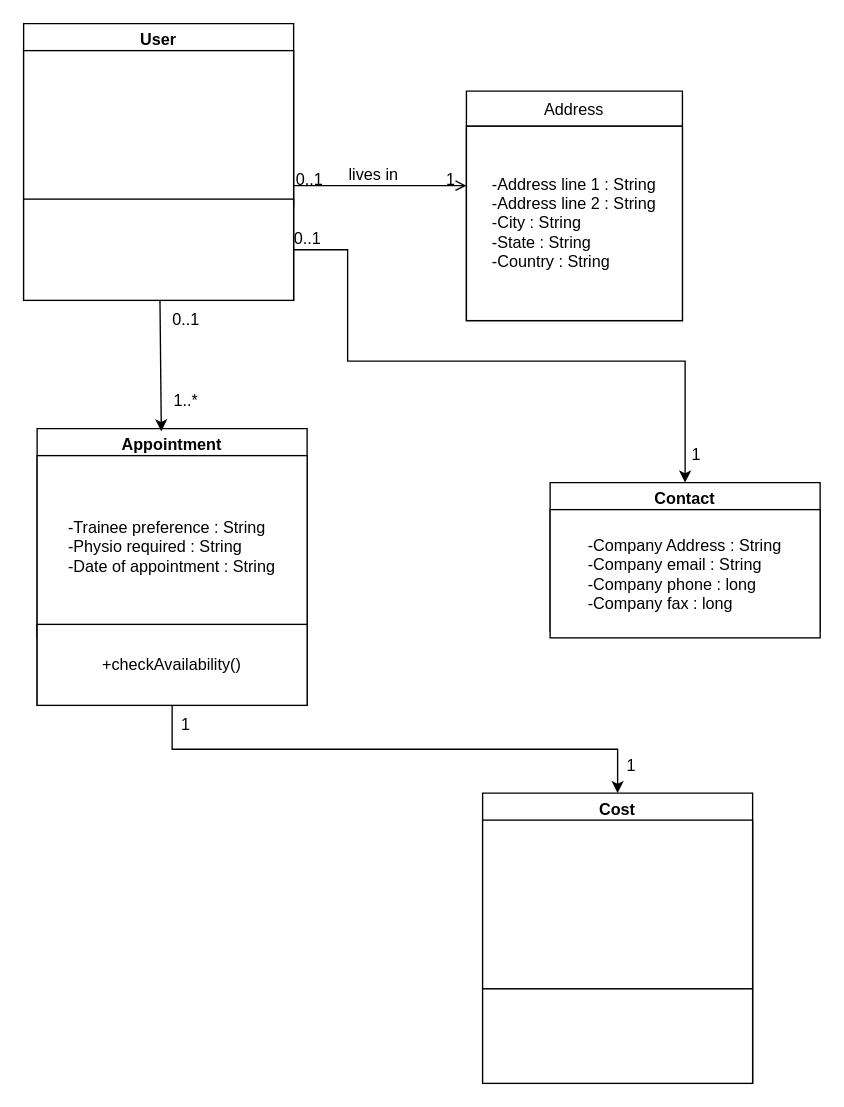
The diagram is 844 pixels wide and 1107 high, and some of its shapes have lost their labels. Here are the shapes that lost their labels. From the top down, the centre of each, then its label:
[158,127]: -Name : String -Mobile Number : long -Email Address : String -Age : Byte
[158,249]: +bookAppointment() +cancelAppointment()
[617,904]: -Trainee name : String -Physio required : String
[617,1035]: +calculateTotalAmount()
